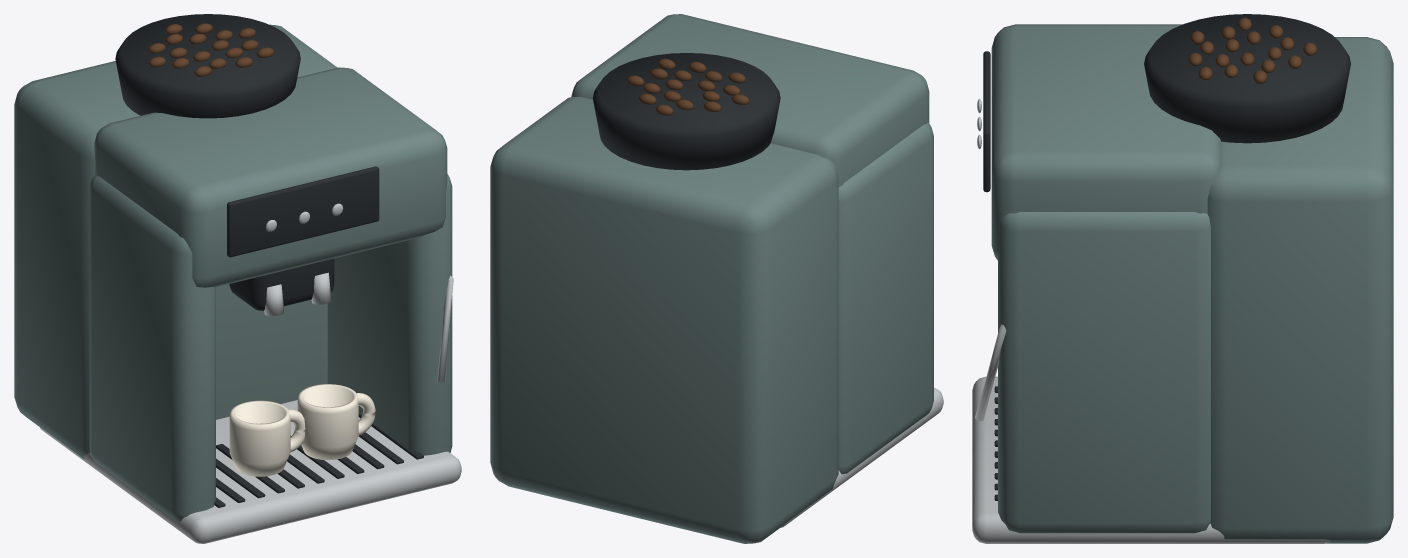
Rendered from coffee_automatic.glb.
3 renders of one model, left to right at view 1: azimuth 30°, elevation 25°; view 2: azimuth 150°, elevation 25°; view 3: azimuth 270°, elevation 25°, orthographic. The views are drawn at different scales.
Parts seen in each view (by area): view 1: coffee_automatic__body, coffee_automatic__technical, coffee_automatic__accent, coffee_automatic__ceramic, coffee_automatic__beans; view 2: coffee_automatic__body, coffee_automatic__technical, coffee_automatic__beans, coffee_automatic__accent; view 3: coffee_automatic__body, coffee_automatic__technical, coffee_automatic__accent, coffee_automatic__beans.
Part boxes in pixels (x1,y1,x2,y2): coffee_automatic__body: [14, 24, 452, 521]; coffee_automatic__technical: [115, 14, 423, 507]; coffee_automatic__accent: [39, 203, 461, 543]; coffee_automatic__ceramic: [229, 384, 375, 476]; coffee_automatic__beans: [148, 23, 274, 76]; coffee_automatic__body: [490, 14, 933, 543]; coffee_automatic__technical: [592, 53, 780, 170]; coffee_automatic__beans: [626, 59, 749, 115]; coffee_automatic__accent: [780, 387, 943, 527]; coffee_automatic__body: [991, 24, 1393, 543]; coffee_automatic__technical: [983, 14, 1350, 500]; coffee_automatic__accent: [972, 98, 1330, 543]; coffee_automatic__beans: [1188, 17, 1317, 83].
Bounding box in the file's own units: 0.295 × 0.39 × 0.346.
